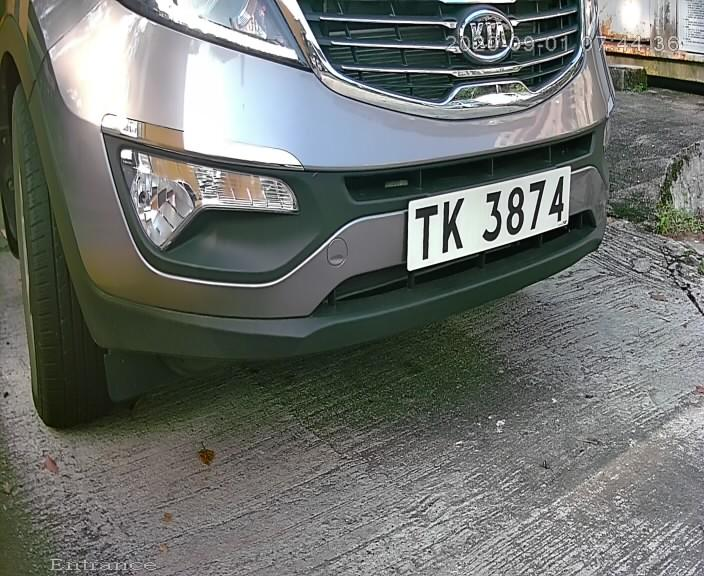License Plate: (400, 157, 579, 281)
